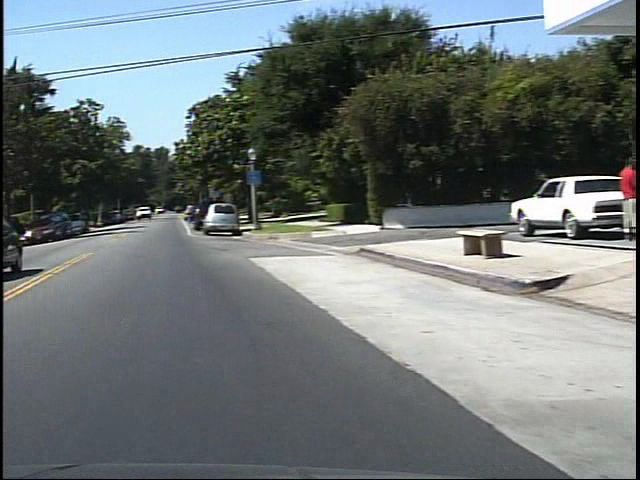person: (606, 155, 633, 246)
